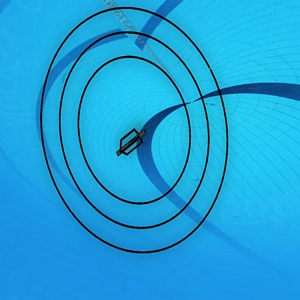submarine: (115, 129, 150, 158)
